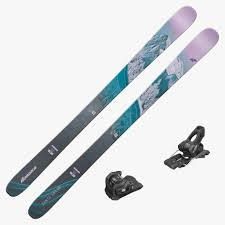skis: (5, 6, 220, 219)
